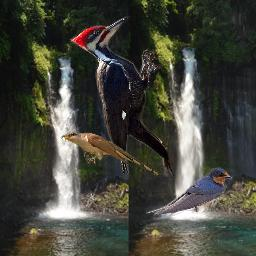Cuckoo: (59, 131, 161, 176)
Swallow: (146, 167, 232, 216)
Woodpecker: (70, 16, 174, 177)
